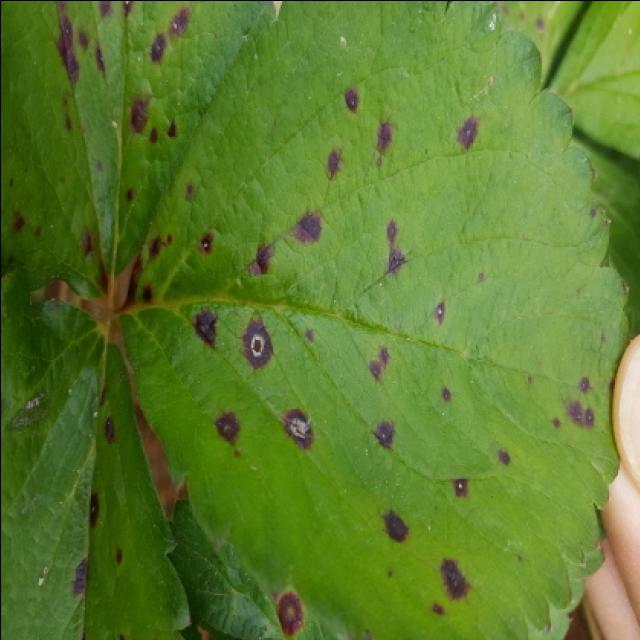Leaf Spot: (117, 2, 632, 640), (2, 2, 274, 300), (2, 267, 191, 640), (165, 498, 353, 640)
